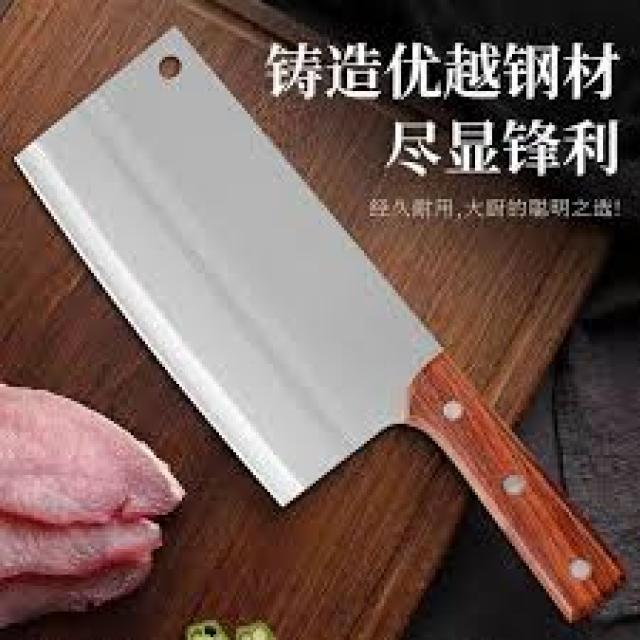Knife: (14, 26, 623, 620)
